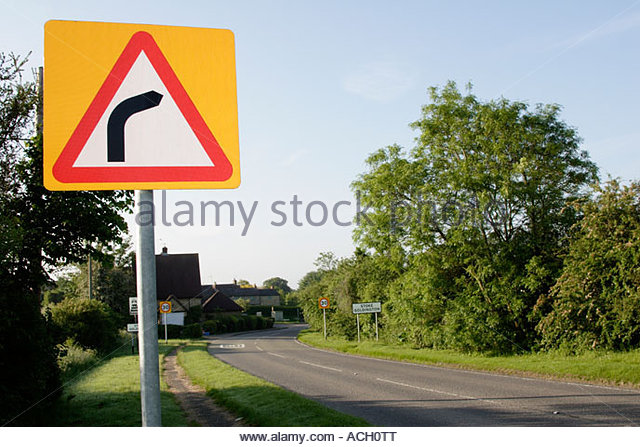Bend_to_right: (52, 30, 233, 183)
